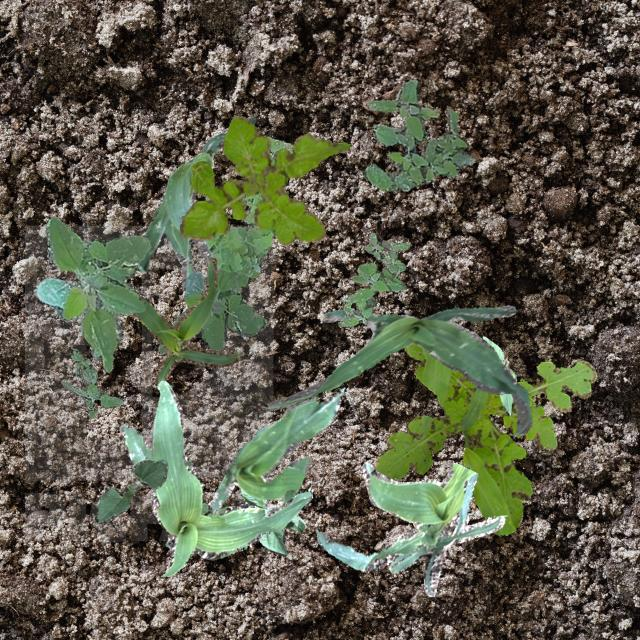crop: (118, 380, 312, 576), (268, 304, 530, 436), (314, 460, 504, 596), (136, 115, 255, 292), (33, 216, 148, 372), (207, 393, 341, 509), (122, 256, 238, 384), (94, 458, 166, 524), (238, 486, 304, 554), (482, 336, 516, 414)
weed: (374, 342, 596, 534), (180, 113, 348, 244), (362, 78, 473, 190), (204, 136, 292, 276), (157, 266, 266, 354), (336, 232, 408, 326), (60, 348, 121, 418)
